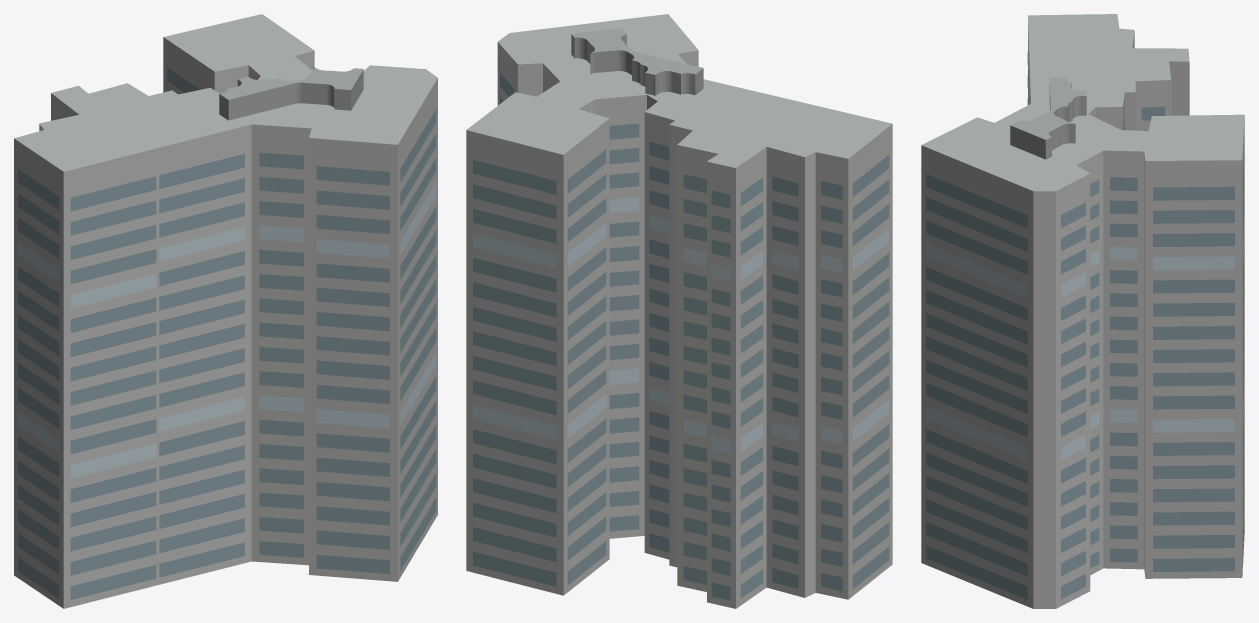
File: fallback-godeok-central-ipark-516.glb
3 renders of one model, left to right at view 1: azimuth 30°, elevation 25°; view 2: azimuth 150°, elevation 25°; view 3: azimuth 270°, elevation 25°, orthographic. The views are drawn at different scales.
Visible parts, largest first — view 1: fallback-godeok-central-ipark-516; view 2: fallback-godeok-central-ipark-516; view 3: fallback-godeok-central-ipark-516.
Boxes of the visible parts, box(x1,y1,x2,y2) form: fallback-godeok-central-ipark-516: box(14, 14, 437, 608); fallback-godeok-central-ipark-516: box(466, 14, 892, 608); fallback-godeok-central-ipark-516: box(921, 14, 1244, 608).
Bounding box in the file's own units: 46.06 × 53 × 35.53.
